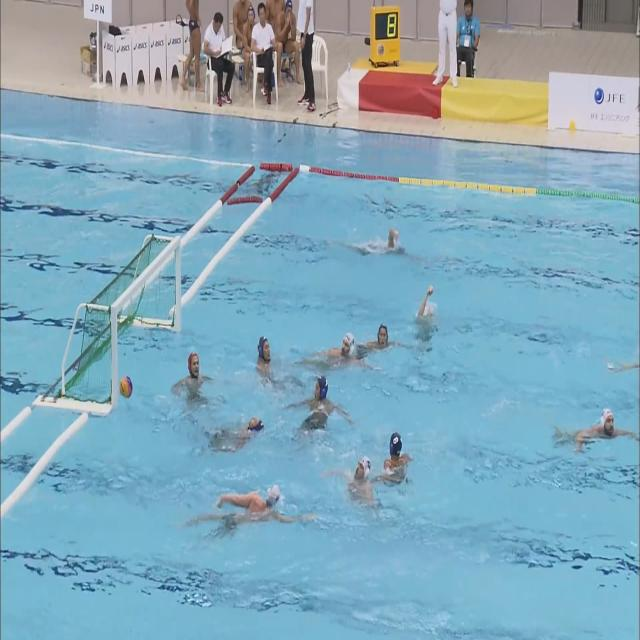ball: (120, 376, 132, 398)
